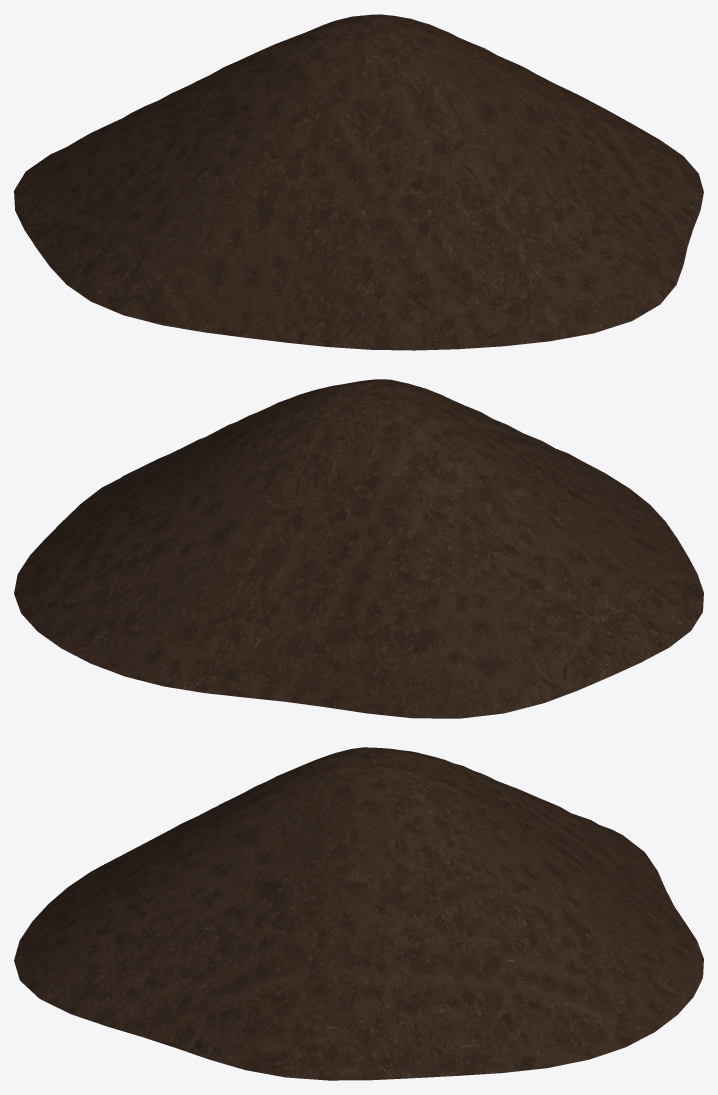
File: PAV-PAI-003.glb
3 renders of one model, top to bottom at view 1: azimuth 30°, elevation 25°; view 2: azimuth 150°, elevation 25°; view 3: azimuth 270°, elevation 25°, orthographic.
Parts seen in each view (by area): view 1: PAV-PAI-003_monte; view 2: PAV-PAI-003_monte; view 3: PAV-PAI-003_monte.
Boxes of the visible parts, x1=… form: PAV-PAI-003_monte: x1=14, y1=14, x2=703, y2=350; PAV-PAI-003_monte: x1=14, y1=379, x2=703, y2=718; PAV-PAI-003_monte: x1=14, y1=747, x2=703, y2=1080.
Bounding box in the file's own units: 1.76 × 0.5107 × 1.79.
1 material, 1 textured.
